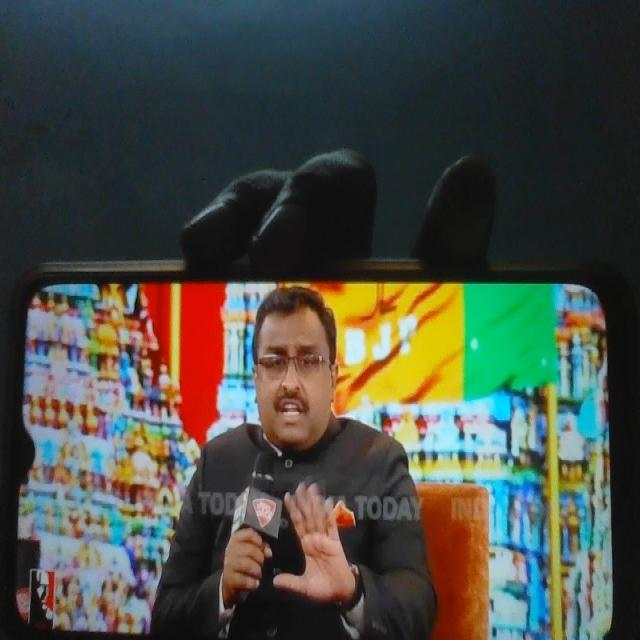fake: (244, 269, 344, 459)
